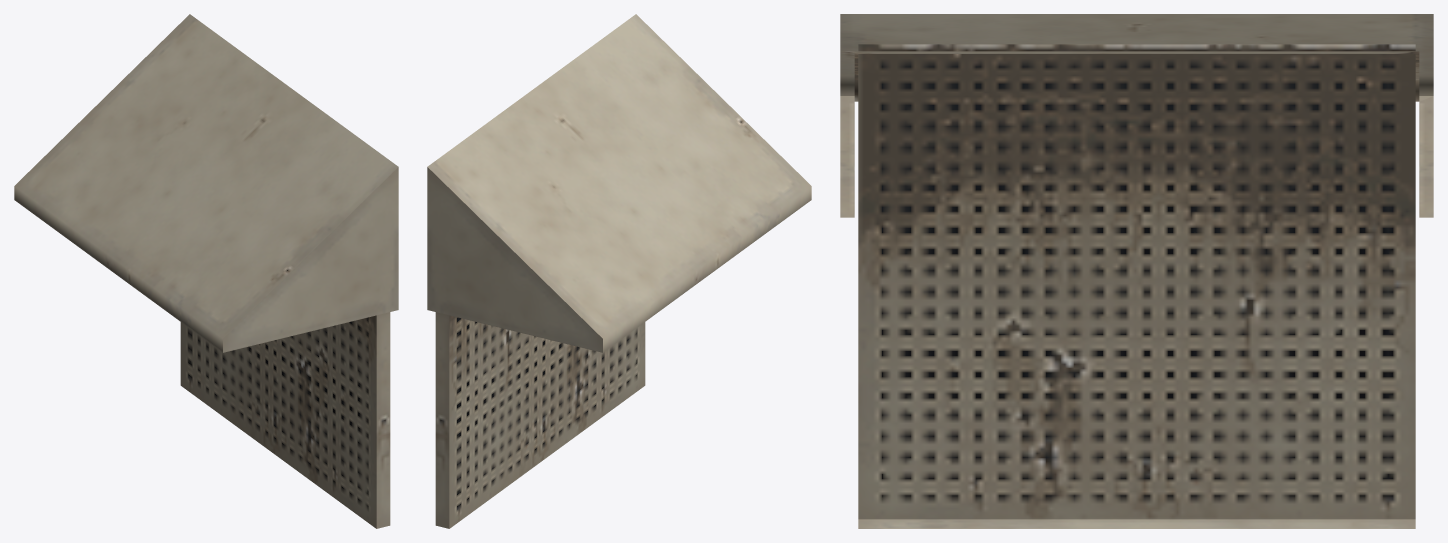
File: MB_Ventilation_04.fbx
3 renders of one model, left to right at view 1: azimuth 30°, elevation 25°; view 2: azimuth 150°, elevation 25°; view 3: azimuth 270°, elevation 25°, orthographic. The views are drawn at different scales.
Parts seen in each view (by area): view 1: MB_Ventilation_04; view 2: MB_Ventilation_04; view 3: MB_Ventilation_04.
Part boxes in pixels (left/top/right/bottom): MB_Ventilation_04: left=14, top=14, right=398, bottom=528; MB_Ventilation_04: left=427, top=14, right=811, bottom=528; MB_Ventilation_04: left=840, top=14, right=1433, bottom=528.
Bounding box in the file's own units: 20.82 × 41.16 × 42.9.
